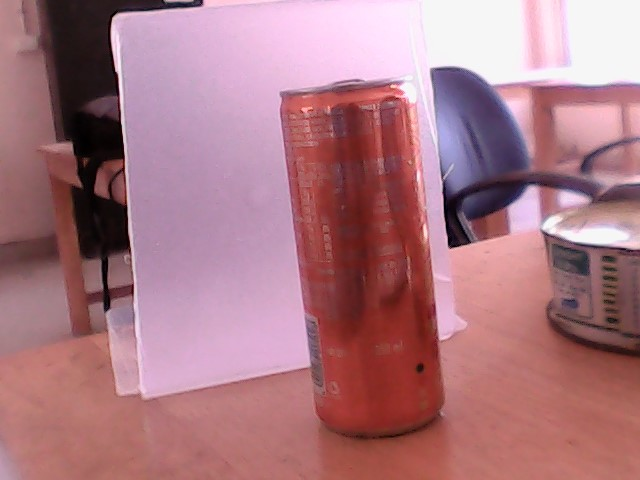Metal: (258, 90, 478, 480)
